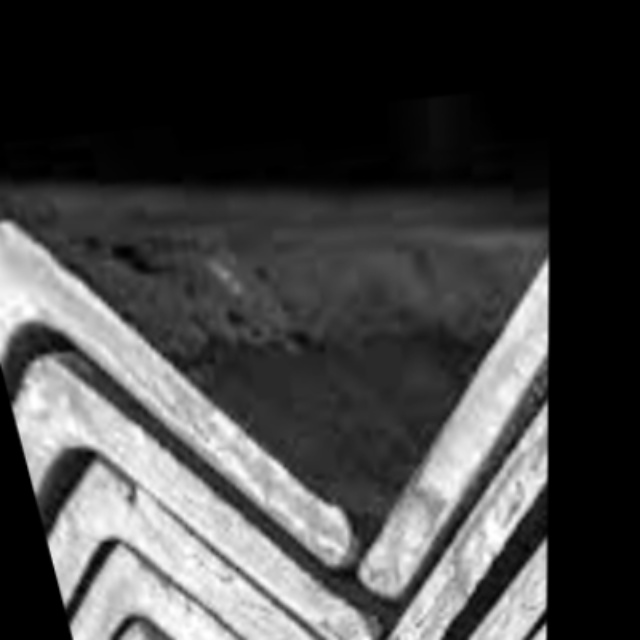Angle: (0, 223, 331, 568), (11, 368, 353, 640), (352, 204, 549, 575), (37, 465, 373, 640), (363, 344, 548, 640), (390, 464, 548, 640), (59, 553, 367, 640), (397, 550, 547, 640), (78, 627, 359, 640)
